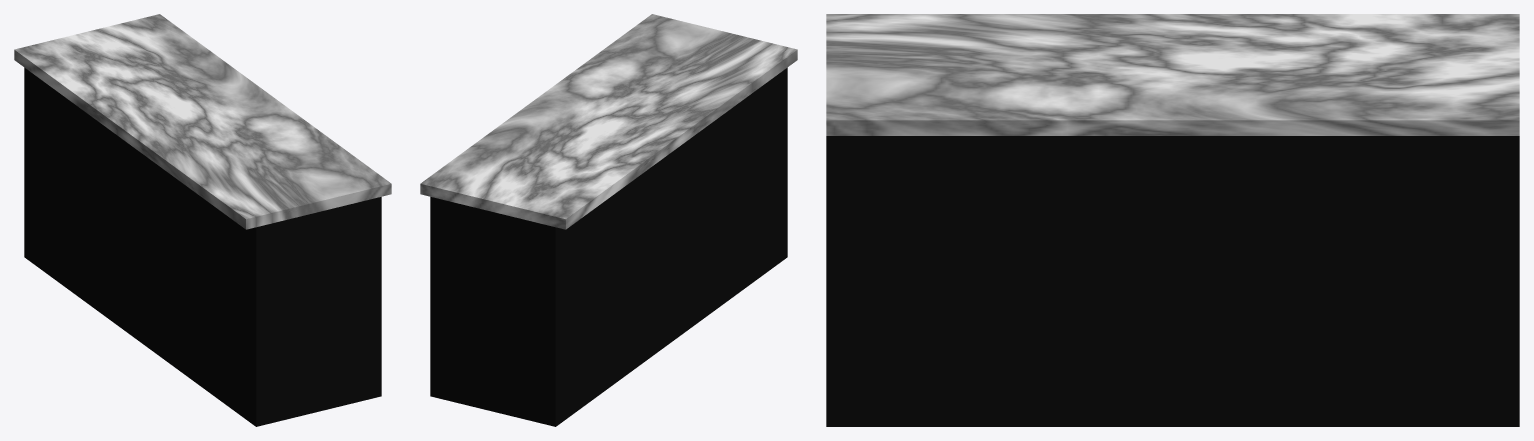
File: counter-short.fbx
3 renders of one model, left to right at view 1: azimuth 30°, elevation 25°; view 2: azimuth 150°, elevation 25°; view 3: azimuth 270°, elevation 25°, orthographic. The views are drawn at different scales.
Visible parts, largest first — view 1: Counter; view 2: Counter; view 3: Counter.
Part boxes in pixels (bbox=[...]): Counter: bbox=[14, 14, 391, 426]; Counter: bbox=[420, 14, 797, 426]; Counter: bbox=[826, 14, 1519, 426].
Bounding box in the file's own units: 145 × 200 × 400.
Materials: 2 (1 with a texture image).
